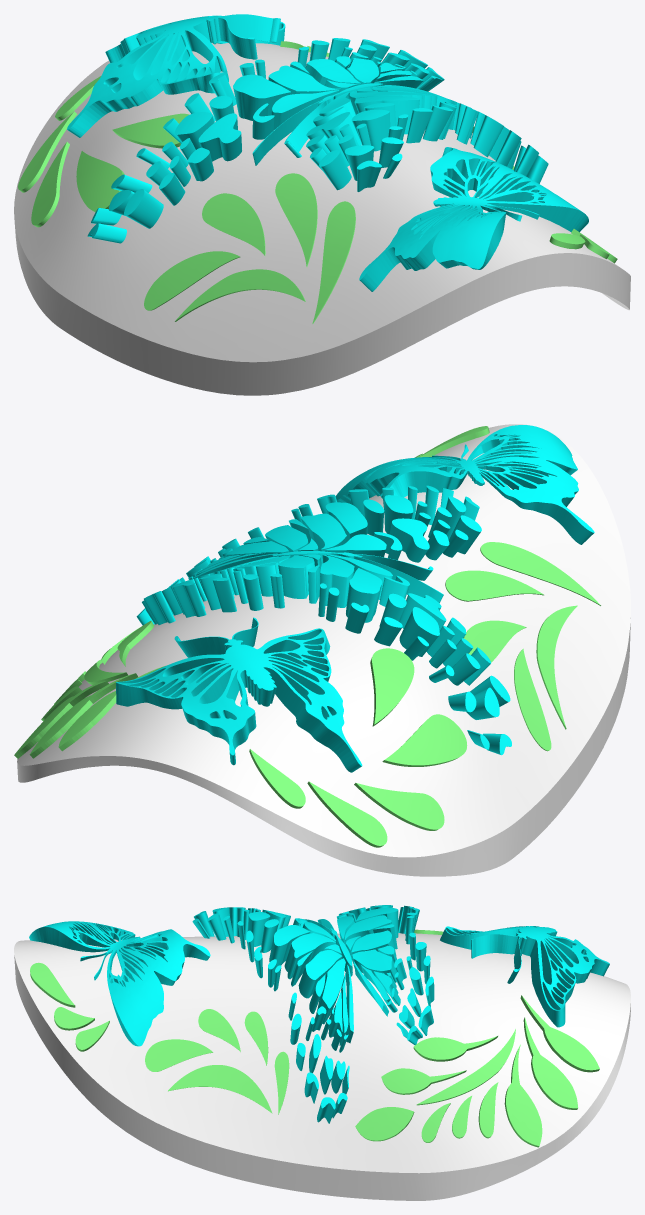
File: butterfly-cove-oval-full.glb
The picture shows the model from 3 angles, top to bottom: view 1: azimuth 30°, elevation 25°; view 2: azimuth 150°, elevation 25°; view 3: azimuth 270°, elevation 25°; orthographic projection. The views are drawn at different scales.
Size of the model in its own units: 0.0139 by 0.00686 by 0.0201.
